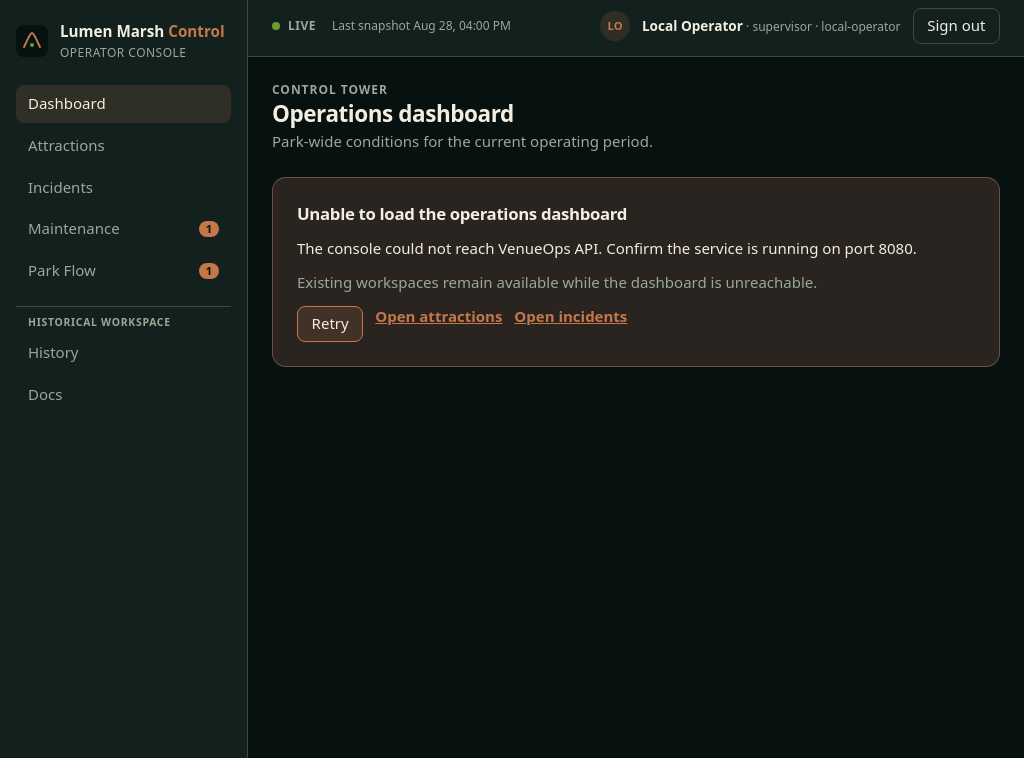
Scenario: Operations dashboard › shows unavailable state with retry and workspace links when no snapshot exists
Expected: the message shows "Unable to load the operations dashboard", 297,202 -> 627,225
Click the button "Retry".
click(330, 324)  # box 297,306 -> 363,342
(page scrolled)
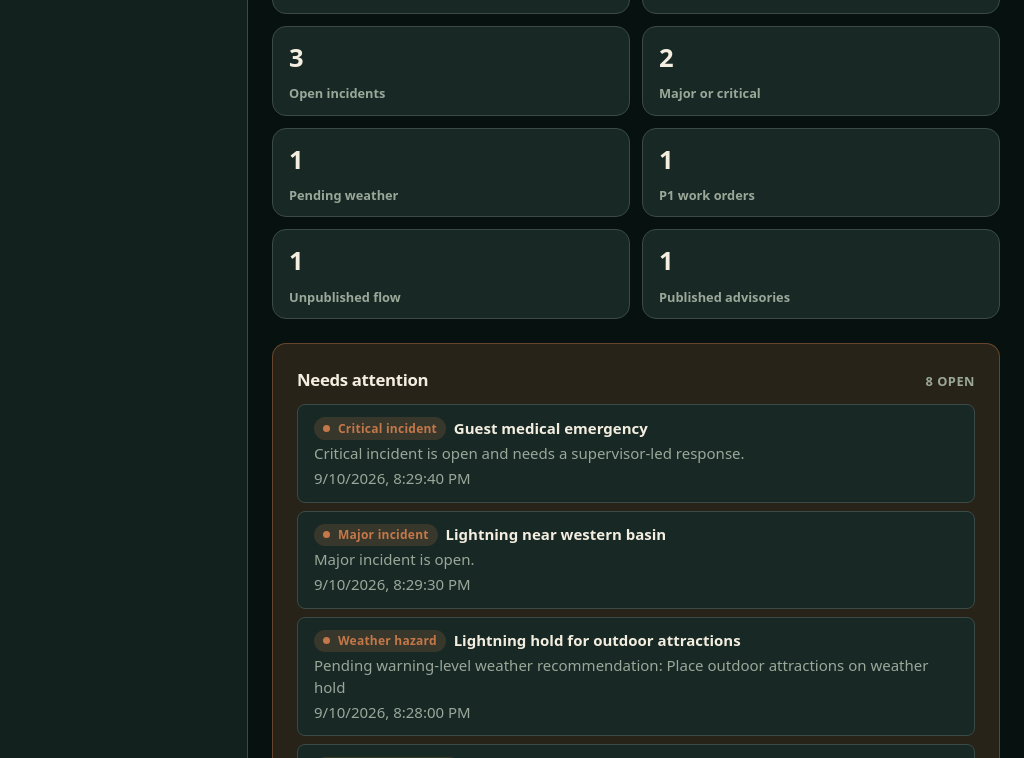
Now the heading "Needs attention" is shown, box 297,368 -> 428,392
